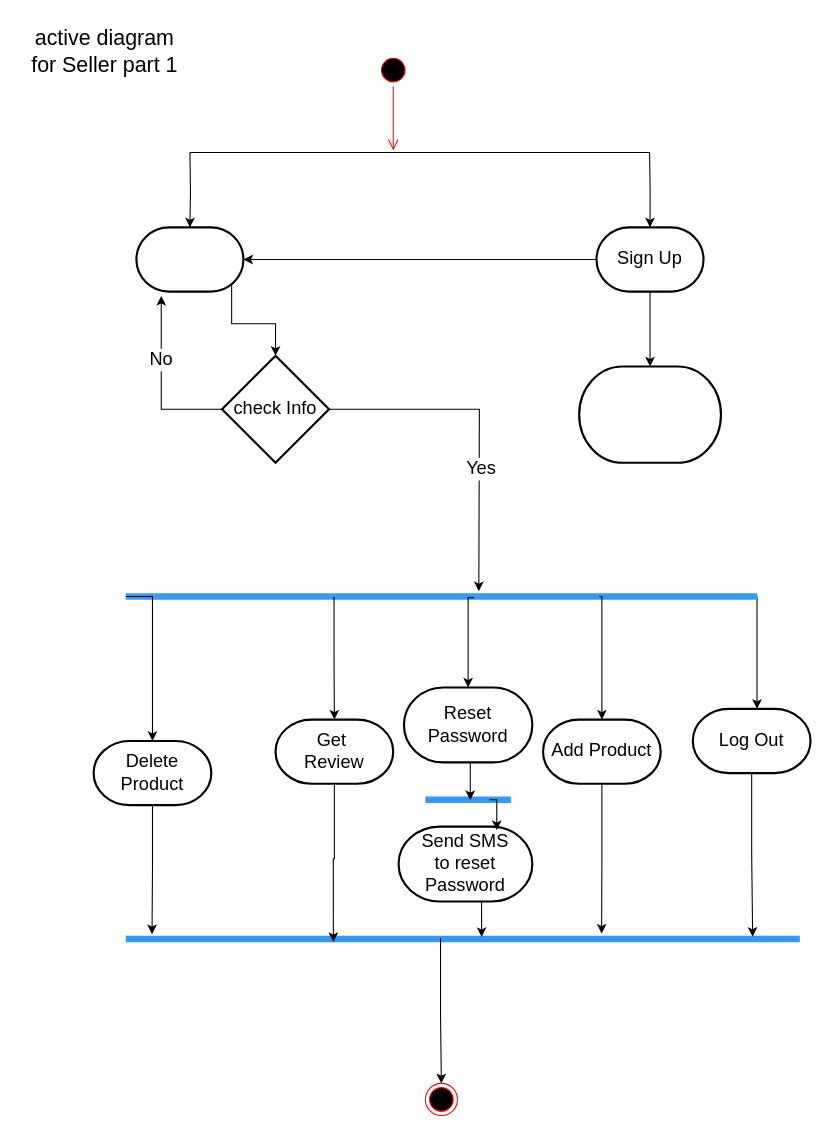
Image size: 829x1134. Some labels were removed from this diagram. The centre of each missing label's shape, as x and y in pixels:
Log In: the point at 189,259
Receive sms to set password (On Mail): the point at 650,414
